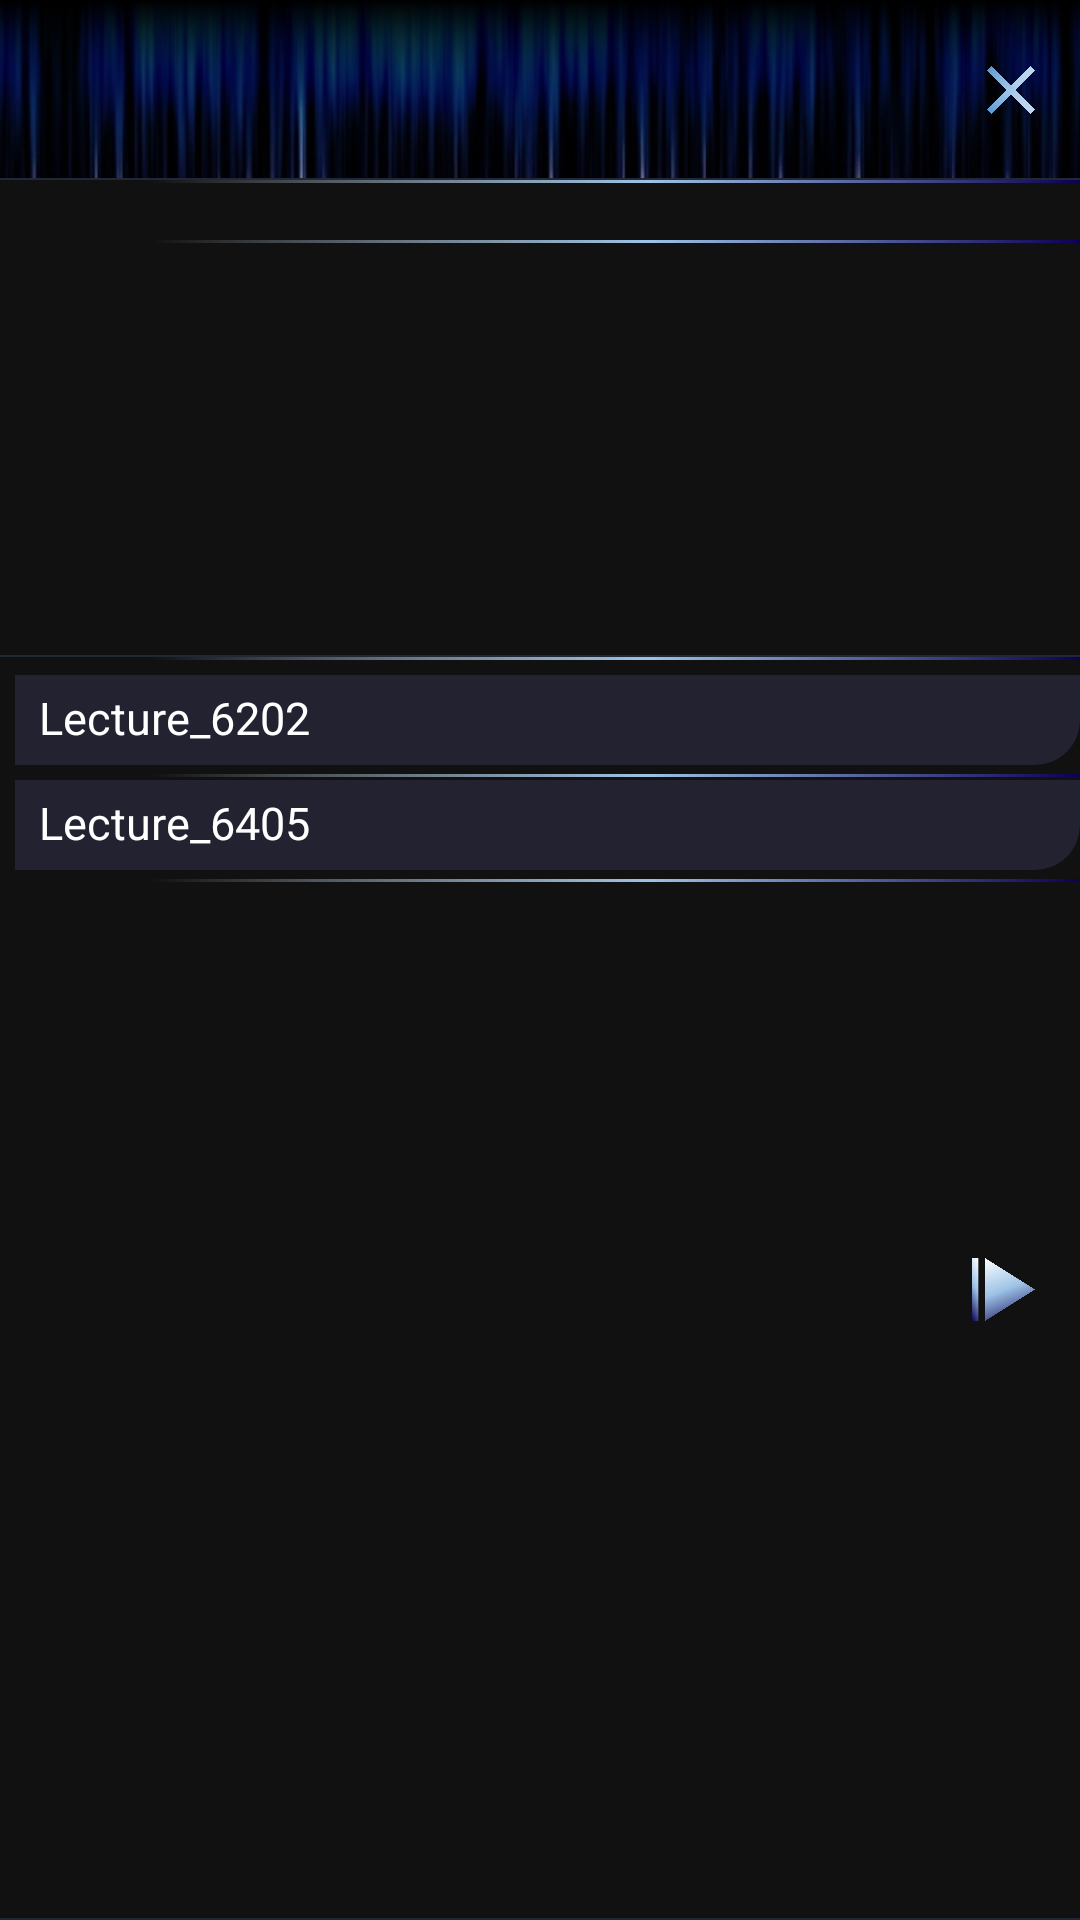

Point at icon controls on the screen. Image size 1080x1920, points as (x=x, y=y).
close: (x=1011, y=90)
play: (x=1003, y=1289)
